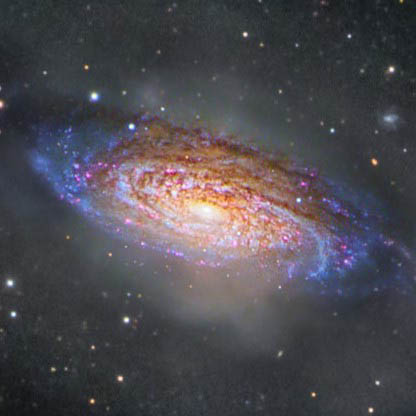NGC 3521: (10, 41, 403, 388)
